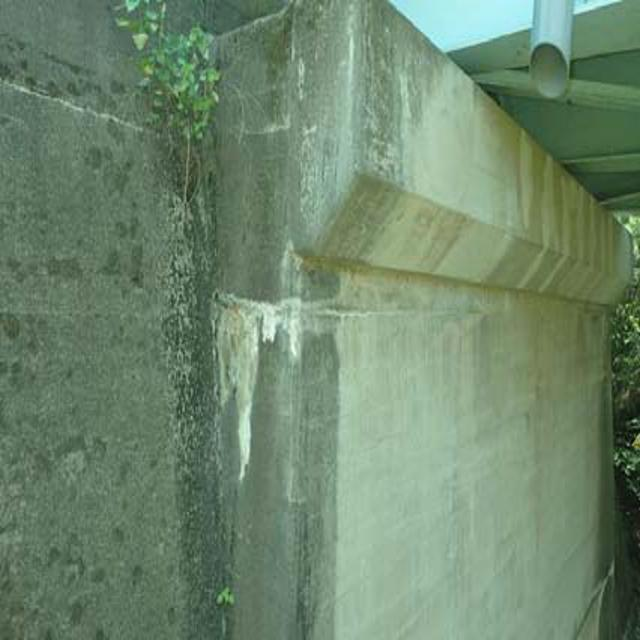freelime: (204, 267, 297, 470)
